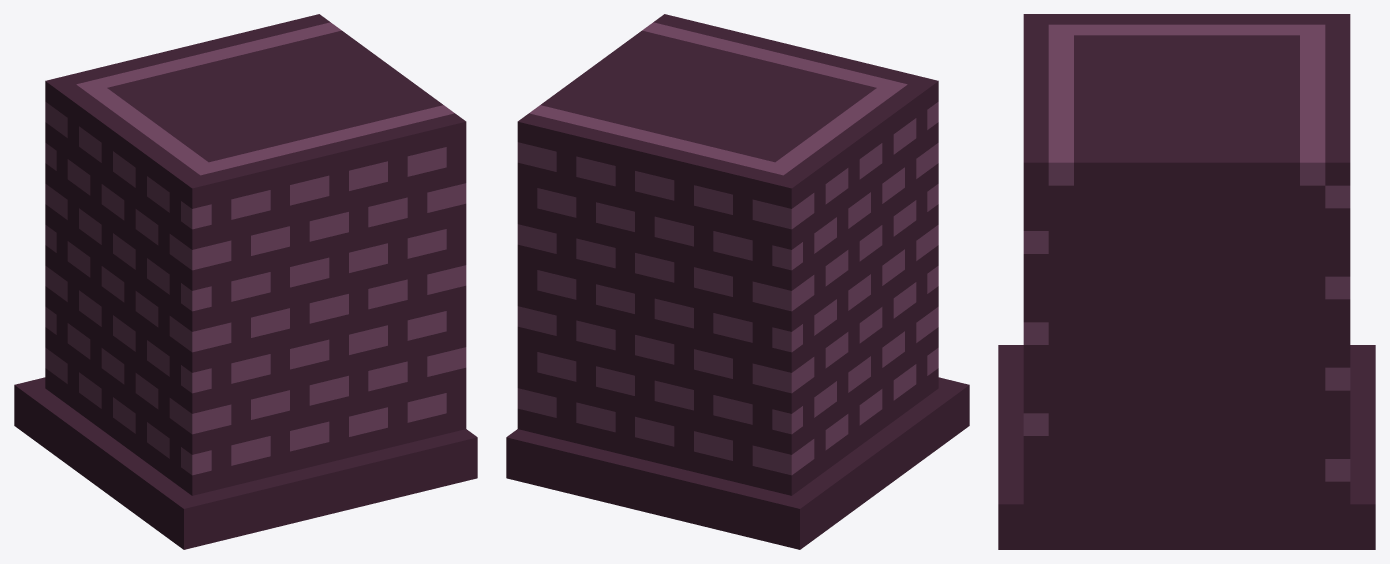
The model's file is dungeon_c_a_inner_wall_ending_flipped.obj.
The picture shows the model from 3 angles, left to right: view 1: azimuth 30°, elevation 25°; view 2: azimuth 150°, elevation 25°; view 3: azimuth 270°, elevation 25°; orthographic projection. The views are drawn at different scales.
Size of the model in its own units: 1.5 by 1.7 by 1.5.
Materials: 1 (1 with a texture image).
